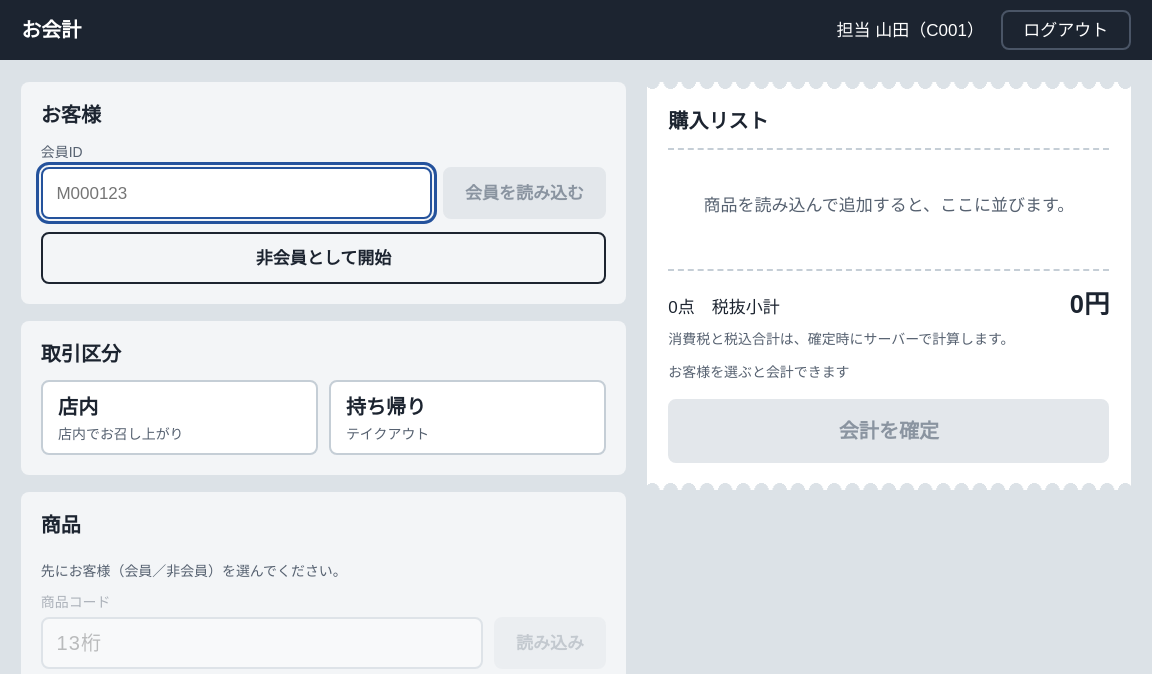
it: S-02 POSメイン画面 › T-012 未登録の会員IDはメッセージを出し、入力状態のまま
In the field labelled "会員ID": (237, 194) [41,168,432,220], type "M999999"
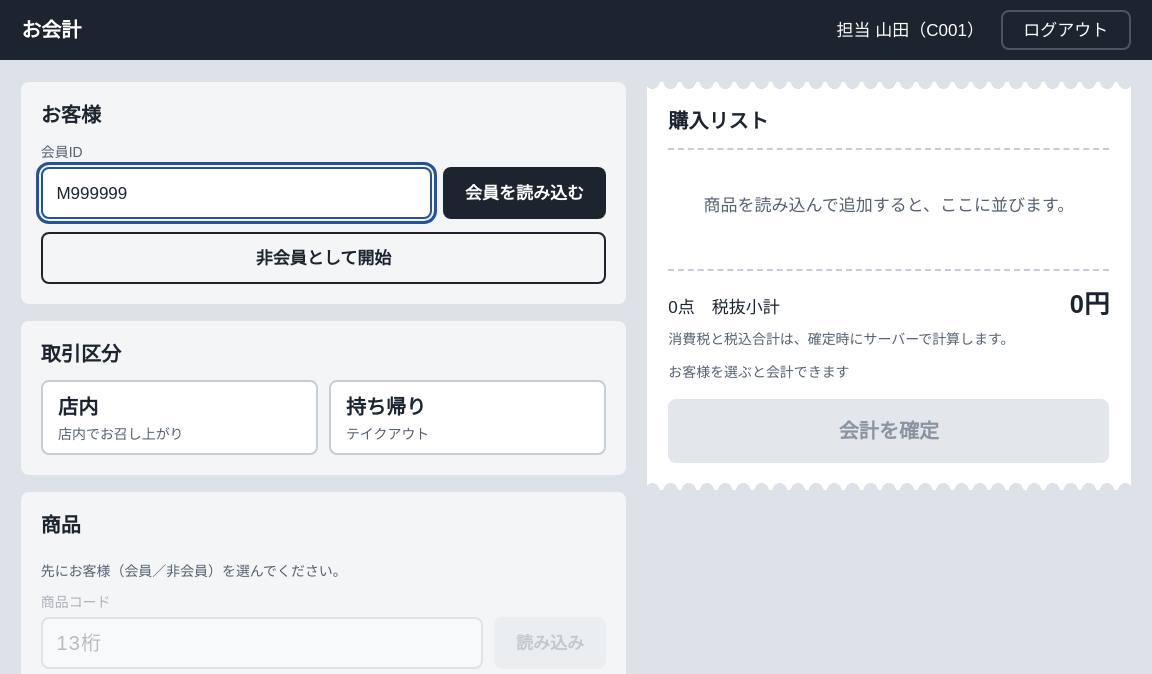
Click the button "会員を読み込む": (524, 194) [442,168,606,220]
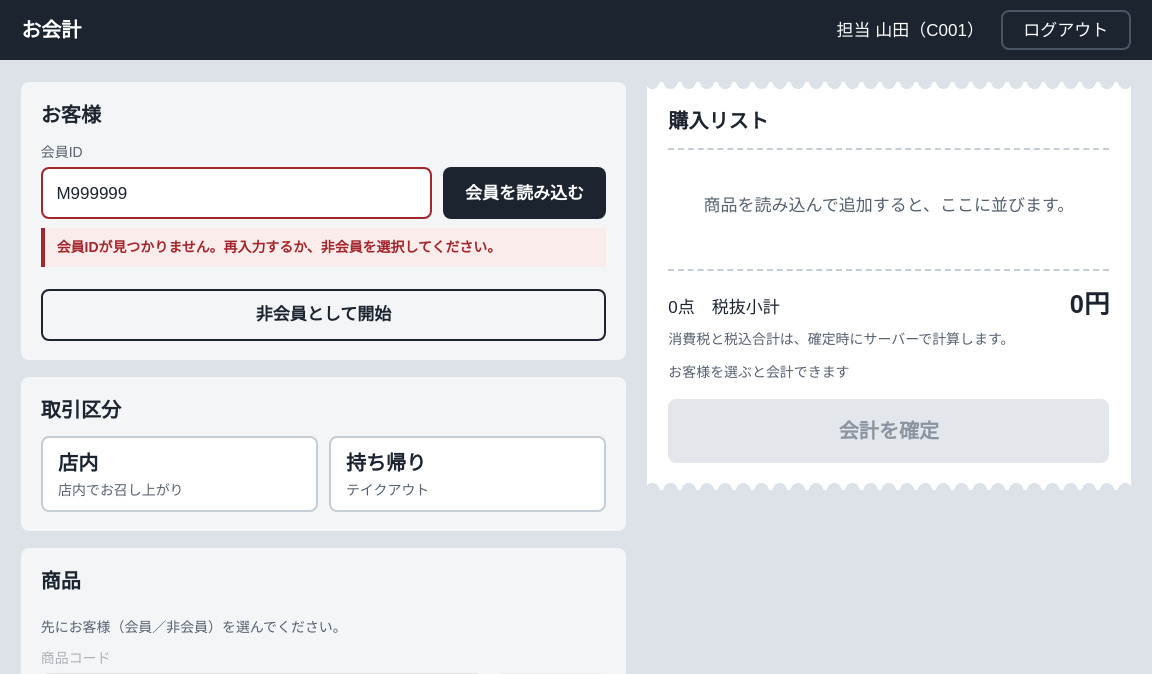
Expected: the button "非会員として開始" is shown, [41,288,606,340]
Now the message reads "会員IDが見つかりません。再入力するか、非会員を選択してください。", box [57,240,501,256]
